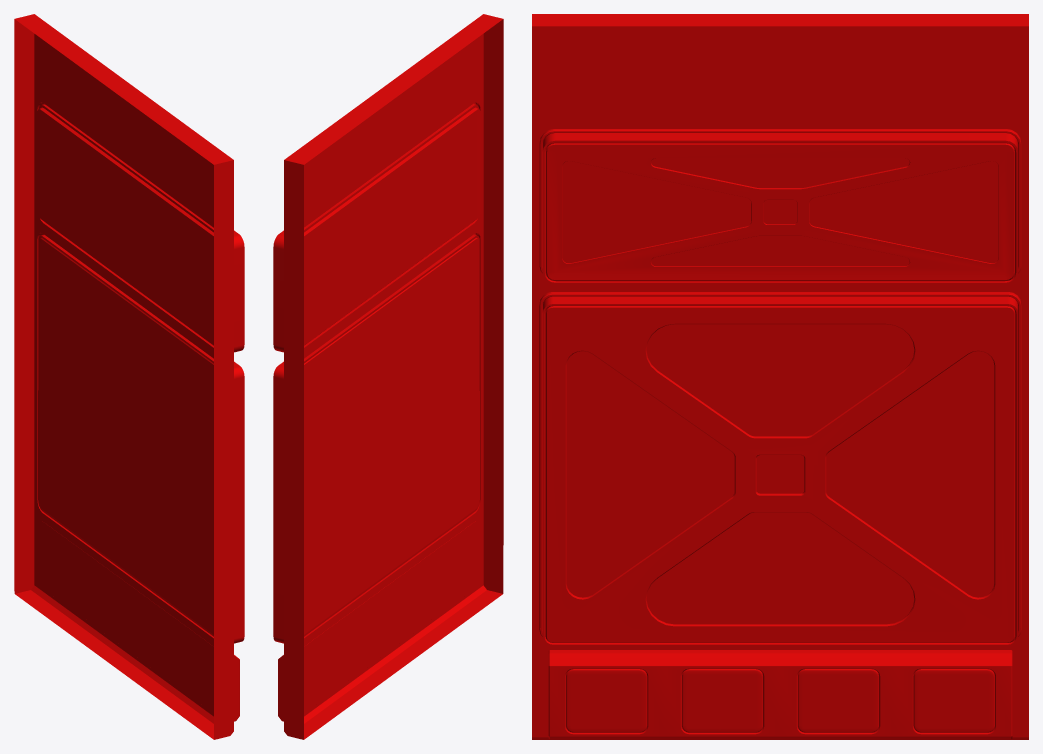
File: Wall_16.fbx
3 renders of one model, left to right at view 1: azimuth 30°, elevation 25°; view 2: azimuth 150°, elevation 25°; view 3: azimuth 270°, elevation 25°, orthographic. The views are drawn at different scales.
Parts seen in each view (by area): view 1: L8:polySurface2044; view 2: L8:polySurface2044; view 3: L8:polySurface2044.
Boxes of the visible parts, box(x1,y1,x2,y2) form: L8:polySurface2044: box(14, 14, 244, 739); L8:polySurface2044: box(273, 14, 503, 739); L8:polySurface2044: box(532, 14, 1028, 739).
Bounding box in the file's own units: 47.85 × 751 × 472.
